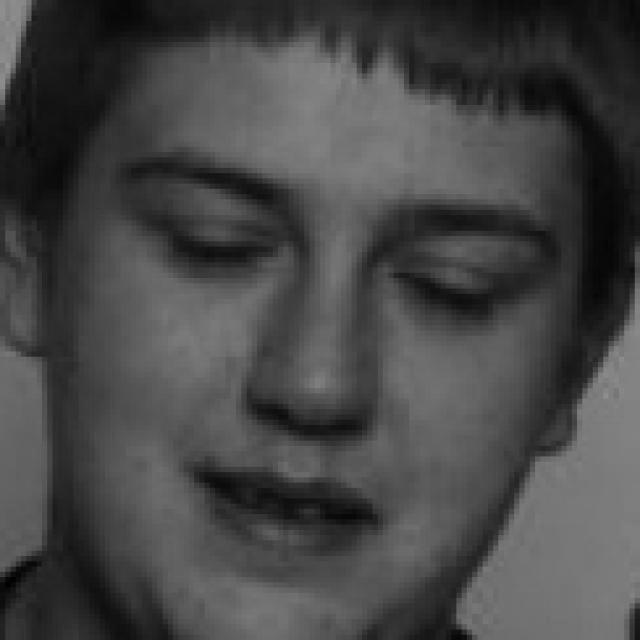real: (62, 6, 534, 635), (153, 188, 537, 326)
